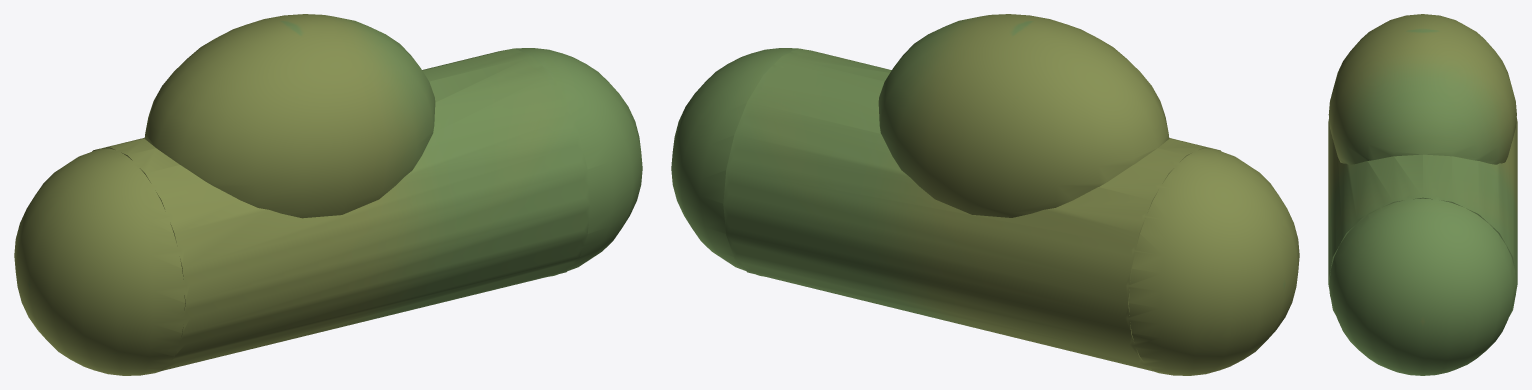
File: arbusto.obj
The picture shows the model from 3 angles, left to right: view 1: azimuth 30°, elevation 25°; view 2: azimuth 150°, elevation 25°; view 3: azimuth 270°, elevation 25°; orthographic projection. The views are drawn at different scales.
Parts seen in each view (by area): view 1: pasted__polySurface2 group2; view 2: pasted__polySurface2 group2; view 3: pasted__polySurface2 group2.
Part boxes in pixels (x1=…): pasted__polySurface2 group2: x1=14, y1=14, x2=642, y2=375; pasted__polySurface2 group2: x1=671, y1=14, x2=1299, y2=375; pasted__polySurface2 group2: x1=1328, y1=14, x2=1517, y2=375.
Bounding box in the file's own units: 1.75 × 0.8393 × 0.591.
Materials: 1 (1 with a texture image).
